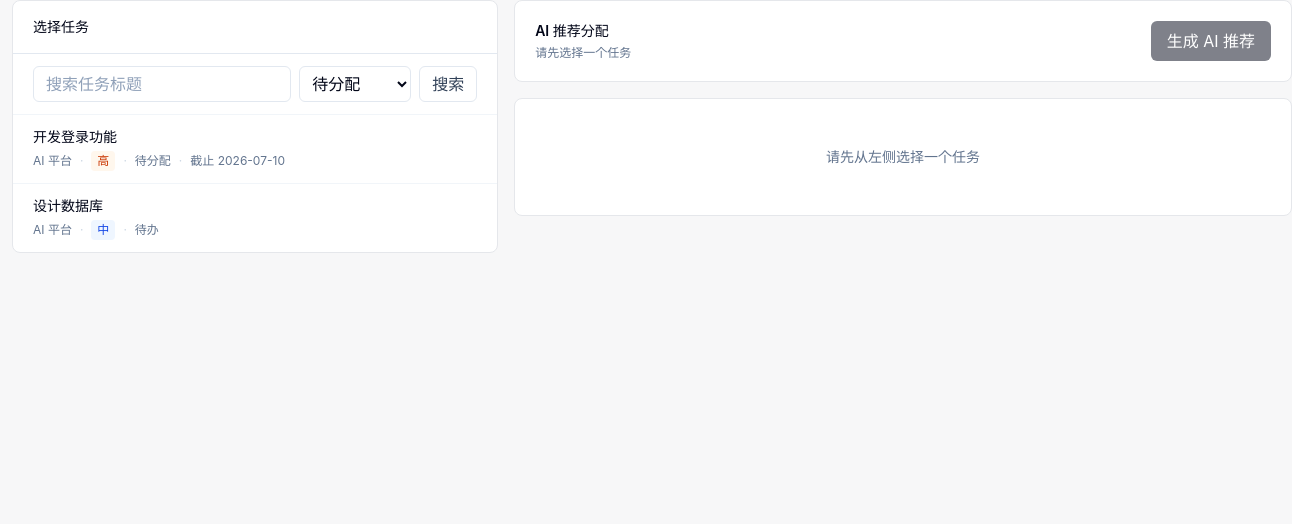
AiAssignmentView › shows error when recommend fails
What coordinates should you click on to do the following:
click the button "开发登录功能 AI 平台 · 高 · 待分配 · 截止 2026-07-10"
I would click on:
 (75, 136)
Its box is [13,115,497,184].
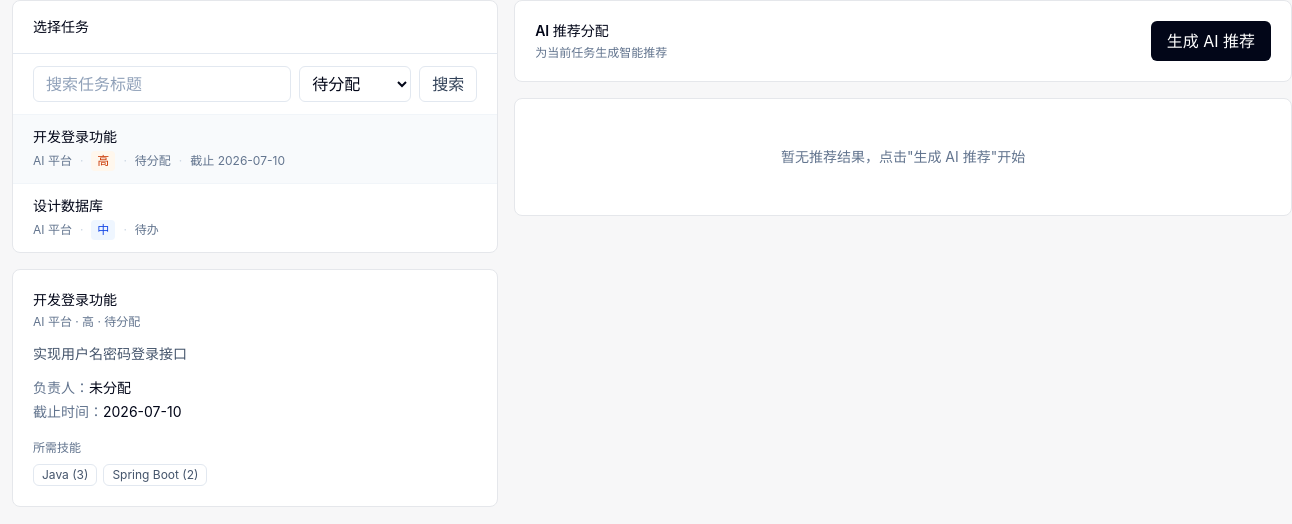
What coordinates should you click on to do the following:
click the button "生成 AI 推荐"
I would click on:
 (1211, 41)
Its box is [1151,21,1271,61].
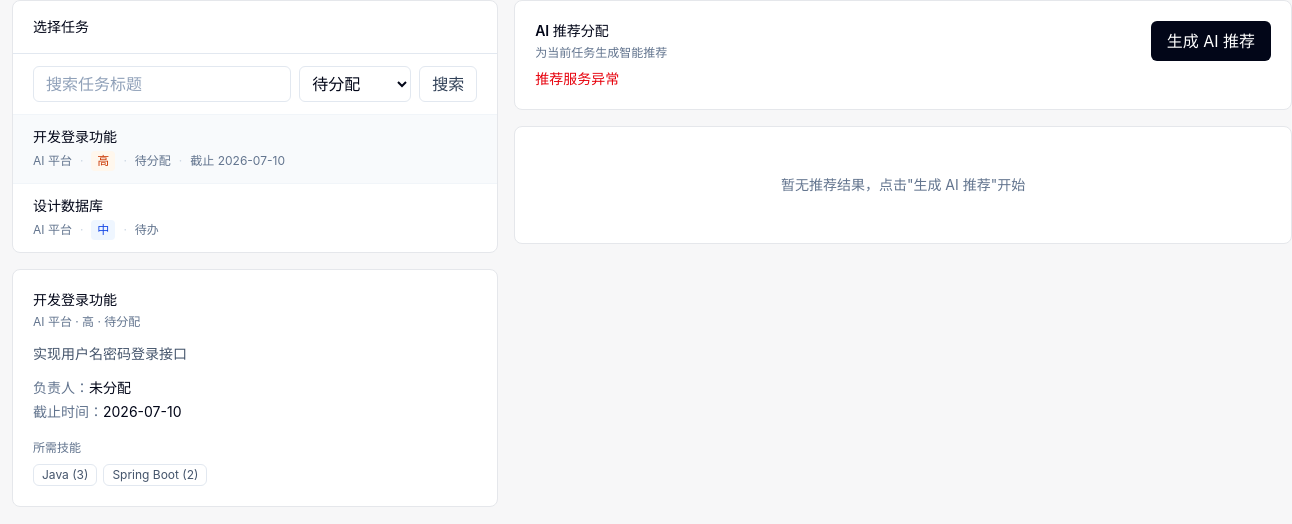
Expected: the text "推荐服务异常" is shown, [535,70,619,87]
